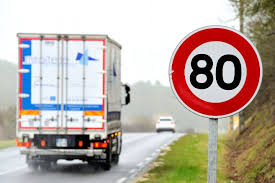Speed_limit_80km: (168, 26, 263, 118)
